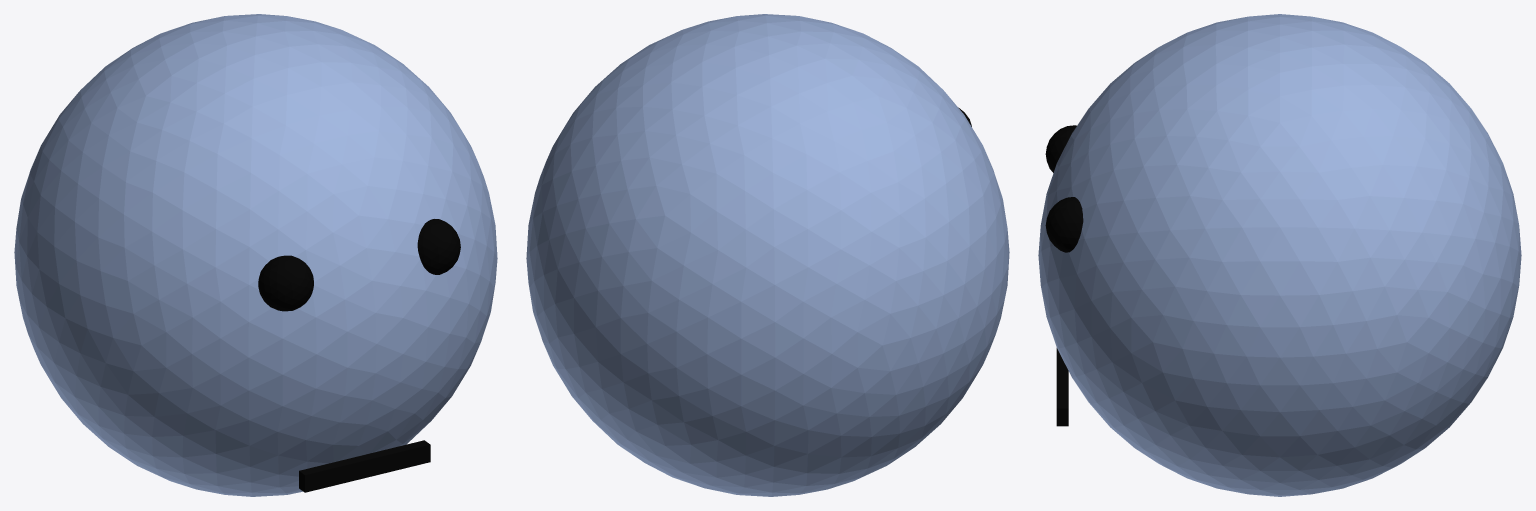
Rendered from emoji_sad.glb.
3 views of the same model, side by side, from view 1: azimuth 30°, elevation 25°; view 2: azimuth 150°, elevation 25°; view 3: azimuth 270°, elevation 25° (orthographic).
Parts seen in each view (by area): view 1: world; view 2: world; view 3: world.
Part boxes in pixels (bbox=[...]): world: bbox=[14, 14, 497, 496]; world: bbox=[526, 14, 1009, 496]; world: bbox=[1038, 14, 1521, 496].
Size of the model in its own units: 2 by 2 by 2.
